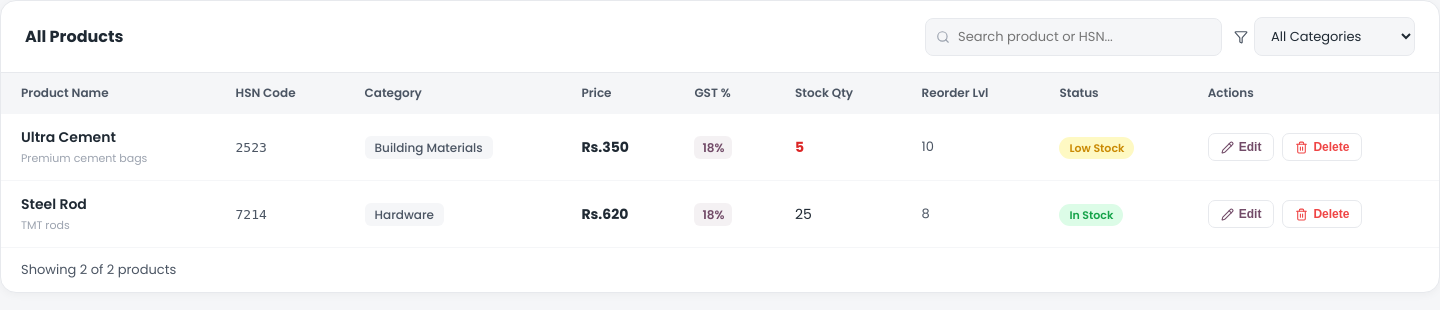
Test: InventoryTableFull › filters by product search and category
Type "steel" into the field with placeholder "Search product or HSN..." at (1074,36), box [925,18,1222,56]
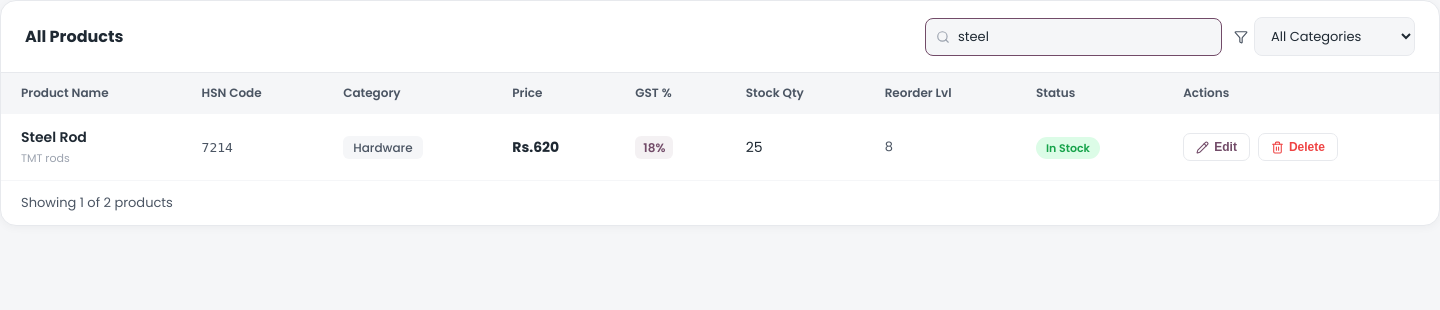
Expected: the text "Steel Rod" is shown, [21,127,87,147]
Expected: the text "Ultra Cement" is gone
Clear the field with placeholder "Search product or HSN..." at (1074,36), box [925,18,1222,56]
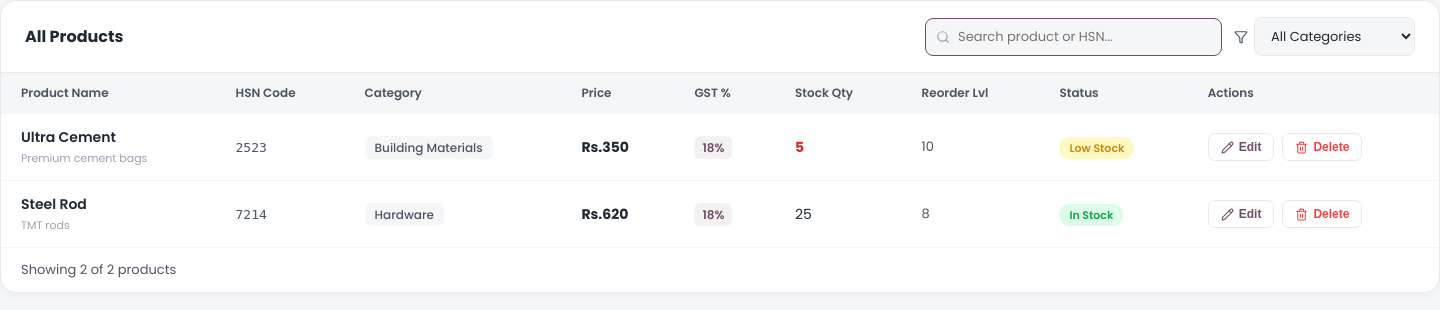
Select "Building Materials" in the dropdown at (1334,36), box [1254,17,1415,56]
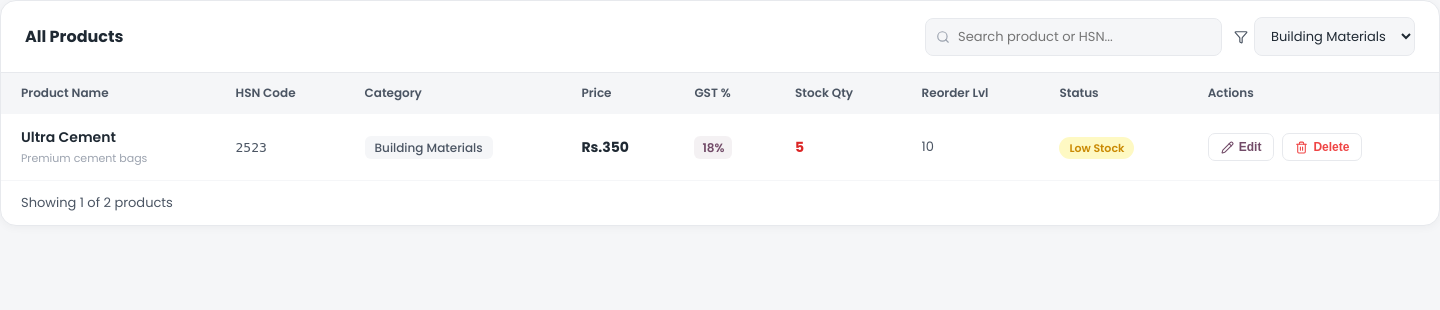
Expected: the text "Ultra Cement" is shown, [21,127,116,147]
Expected: the text "Steel Rod" is gone
